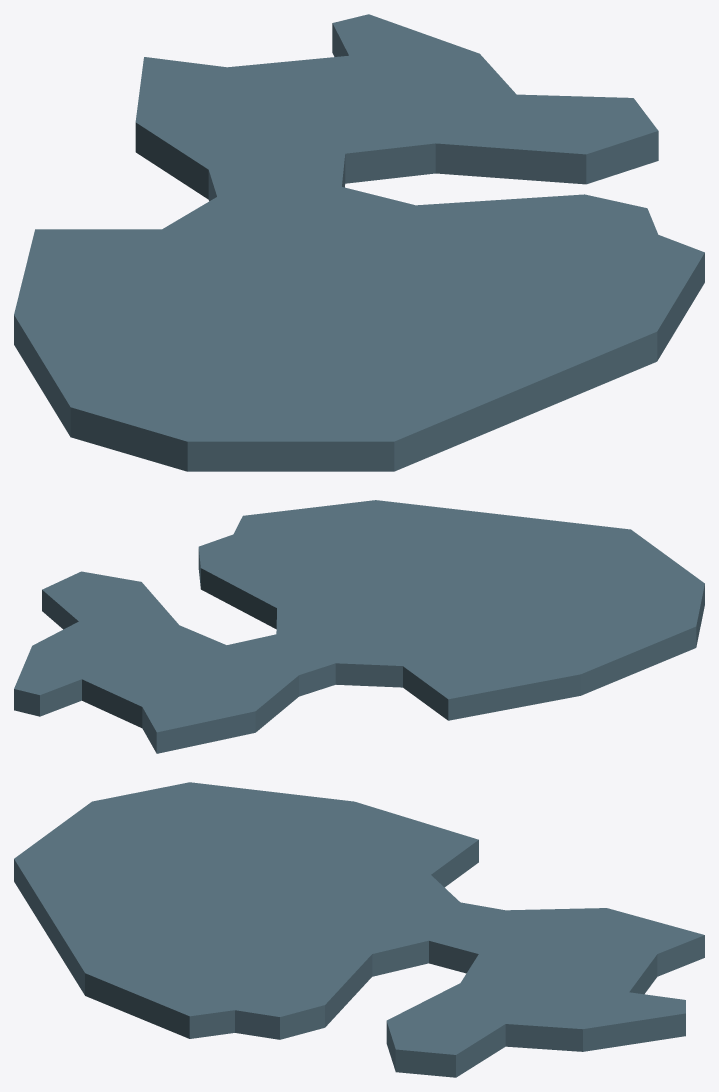
Rendered from RH_Ground04.fbx.
The picture shows the model from 3 angles, top to bottom: view 1: azimuth 30°, elevation 25°; view 2: azimuth 150°, elevation 25°; view 3: azimuth 270°, elevation 25°; orthographic projection. The views are drawn at different scales.
Parts seen in each view (by area): view 1: RH_Ground04; view 2: RH_Ground04; view 3: RH_Ground04.
Part boxes in pixels (x1,y1,x2,y2): RH_Ground04: [14, 14, 704, 471]; RH_Ground04: [14, 500, 704, 753]; RH_Ground04: [14, 782, 704, 1077].
Bounding box in the file's own units: 257 × 10 × 276.
Materials: 1 (1 with a texture image).
